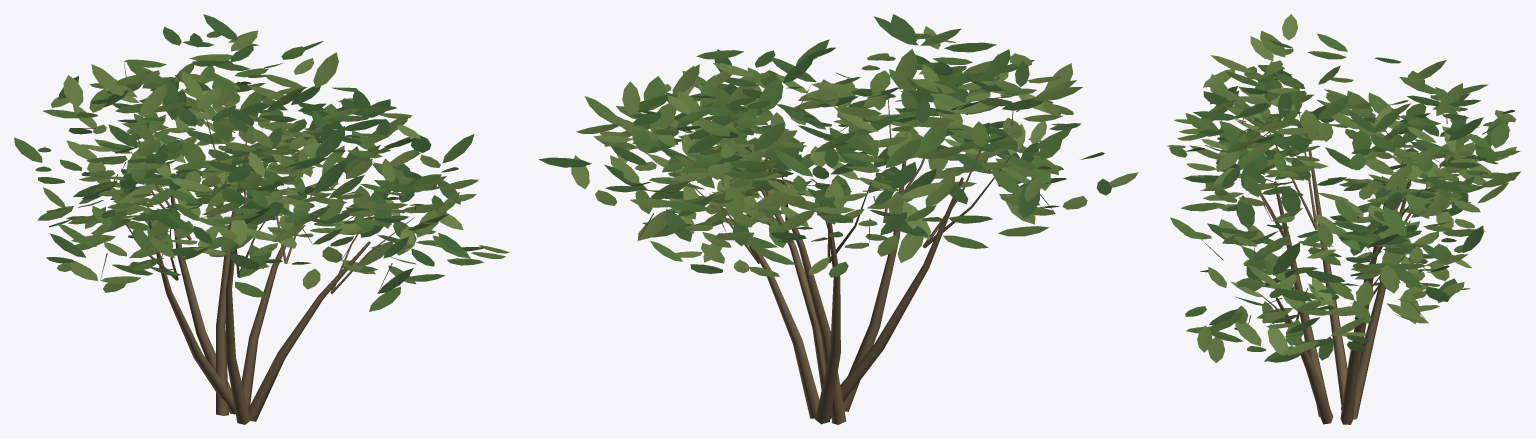
Rendered from Lentisque_1_High.fbx.
The picture shows the model from 3 angles, left to right: view 1: azimuth 30°, elevation 25°; view 2: azimuth 150°, elevation 25°; view 3: azimuth 270°, elevation 25°; orthographic projection. The views are drawn at different scales.
Visible parts, largest first — view 1: Lentisque_1_High; view 2: Lentisque_1_High; view 3: Lentisque_1_High.
Part boxes in pixels (x1,y1,x2,y2): Lentisque_1_High: (14,14,509,424); Lentisque_1_High: (538,14,1138,424); Lentisque_1_High: (1167,14,1521,424).
Bounding box in the file's own units: 259 × 184 × 182.
